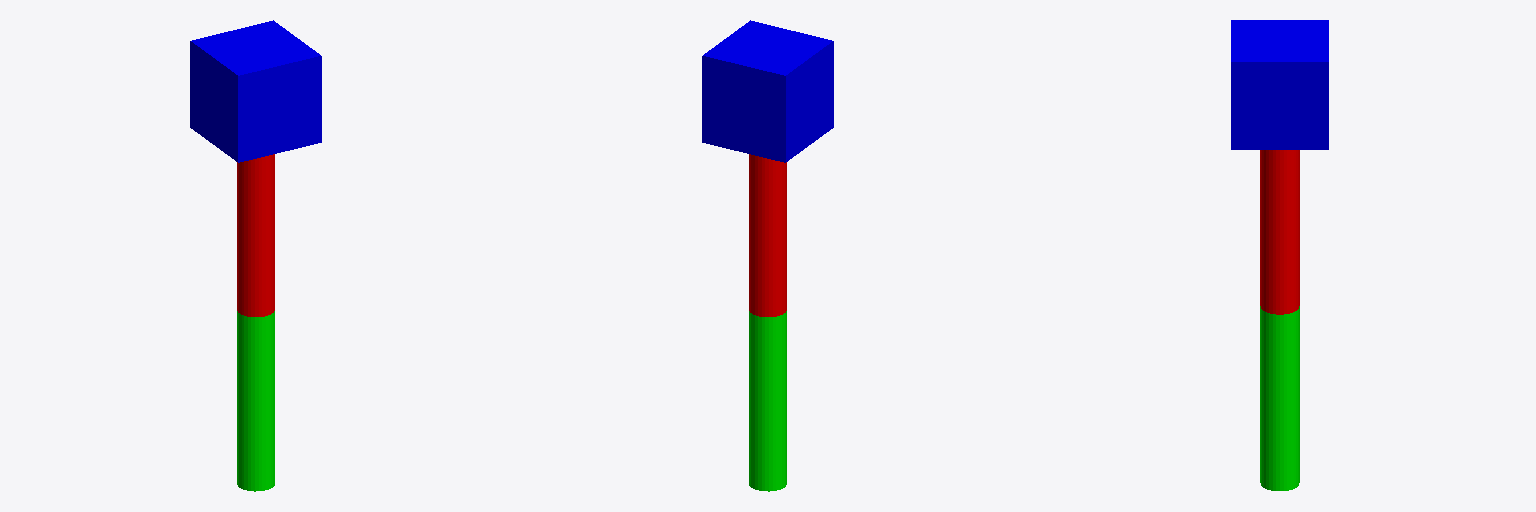
The robot description file, URDF, robot "simple_leg":
<?xml version="1.0"?>
<robot name="simple_leg">

  <!-- Base Link (Hip Mount) -->
  <link name="base_link">
    <inertial>
      <mass value="0.2"/>
      <inertia ixx="0.001" ixy="0.0" ixz="0.0" iyy="0.001" iyz="0.0" izz="0.001"/>
    </inertial>
    <visual>
      <geometry>
        <box size="0.05 0.05 0.05"/>
      </geometry>
      <material name="blue">
        <color rgba="0 0 1 1"/>
      </material>
    </visual>
    <collision>
      <geometry>
        <box size="0.05 0.05 0.05"/>
      </geometry>
    </collision>
  </link>

  <!-- Hip Joint -->
  <joint name="hip_joint" type="revolute">
    <parent link="base_link"/>
    <child link="thigh_link"/>
    <origin xyz="0 0 -0.025" rpy="0 0 0"/>
    <axis xyz="0 1 0"/>
    <limit lower="-1.57" upper="1.57" effort="1.0" velocity="10.0"/>
  </joint>

  <!-- Thigh Link -->
  <link name="thigh_link">
    <inertial>
      <mass value="0.1"/>
      <origin xyz="0 0 -0.05" rpy="0 0 0"/>
      <inertia ixx="0.0005" ixy="0.0" ixz="0.0" iyy="0.0005" iyz="0.0" izz="0.0001"/>
    </inertial>
    <visual>
      <origin xyz="0 0 -0.05" rpy="0 0 0"/>
      <geometry>
        <cylinder radius="0.01" length="0.1"/>
      </geometry>
      <material name="red">
        <color rgba="1 0 0 1"/>
      </material>
    </visual>
    <collision>
      <origin xyz="0 0 -0.05" rpy="0 0 0"/>
      <geometry>
        <cylinder radius="0.01" length="0.1"/>
      </geometry>
    </collision>
  </link>

  <!-- Knee Joint -->
  <joint name="knee_joint" type="revolute">
    <parent link="thigh_link"/>
    <child link="calf_link"/>
    <origin xyz="0 0 -0.1" rpy="0 0 0"/>
    <axis xyz="0 1 0"/>
    <limit lower="-1.57" upper="1.57" effort="1.0" velocity="10.0"/>
  </joint>

  <!-- Calf Link -->
  <link name="calf_link">
    <inertial>
      <mass value="0.1"/>
      <origin xyz="0 0 -0.05" rpy="0 0 0"/>
      <inertia ixx="0.0005" ixy="0.0" ixz="0.0" iyy="0.0005" iyz="0.0" izz="0.0001"/>
    </inertial>
    <visual>
      <origin xyz="0 0 -0.05" rpy="0 0 0"/>
      <geometry>
        <cylinder radius="0.01" length="0.1"/>
      </geometry>
      <material name="green">
        <color rgba="0 1 0 1"/>
      </material>
    </visual>
    <collision>
      <origin xyz="0 0 -0.05" rpy="0 0 0"/>
      <geometry>
        <cylinder radius="0.01" length="0.1"/>
      </geometry>
    </collision>
  </link>

</robot>

--- What the picture shows (computed from the rendered views, not written in the file) ---
Views: 3 orthographic renders of the robot side by side, from view 1: azimuth 30°, elevation 25°; view 2: azimuth 150°, elevation 25°; view 3: azimuth 270°, elevation 25°.
Robot: simple_leg — 3 links, 2 joints (2 revolute); root link base_link; default pose: all joints at 0.
Visible links, largest first — view 1: base_link, calf_link, thigh_link; view 2: base_link, calf_link, thigh_link; view 3: base_link, calf_link, thigh_link.
Boxes of the visible links, x1,y1,x2,y2 form: base_link: (190,20,321,162); calf_link: (237,311,274,491); thigh_link: (237,154,274,316); base_link: (702,20,833,162); calf_link: (749,311,786,491); thigh_link: (749,154,786,316); base_link: (1231,20,1328,149); calf_link: (1260,306,1299,490); thigh_link: (1260,150,1299,314).
Size in the robot's own frame: 0.05 by 0.05 by 0.25 metres.
Geometry: primitives only (box / cylinder / sphere), no mesh files.
